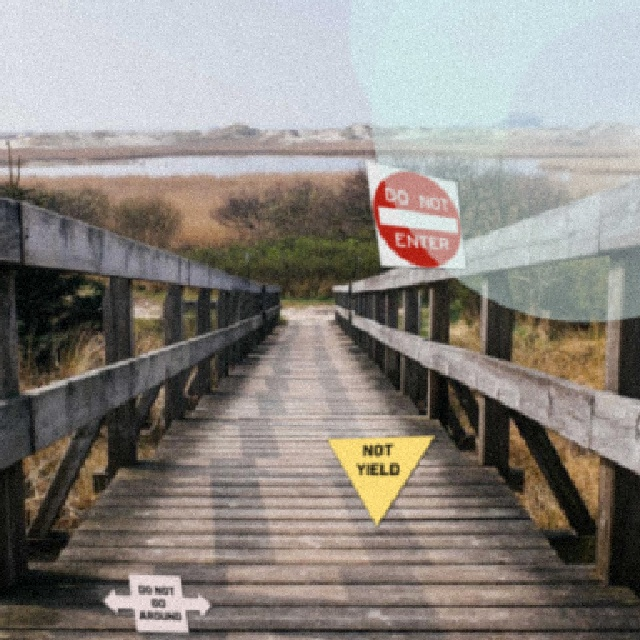DO_NOT_ENTER: (362, 157, 466, 269)
DO_NOT_GO_AROUND: (100, 571, 212, 633)
NOT_YIELD: (324, 433, 436, 527)
